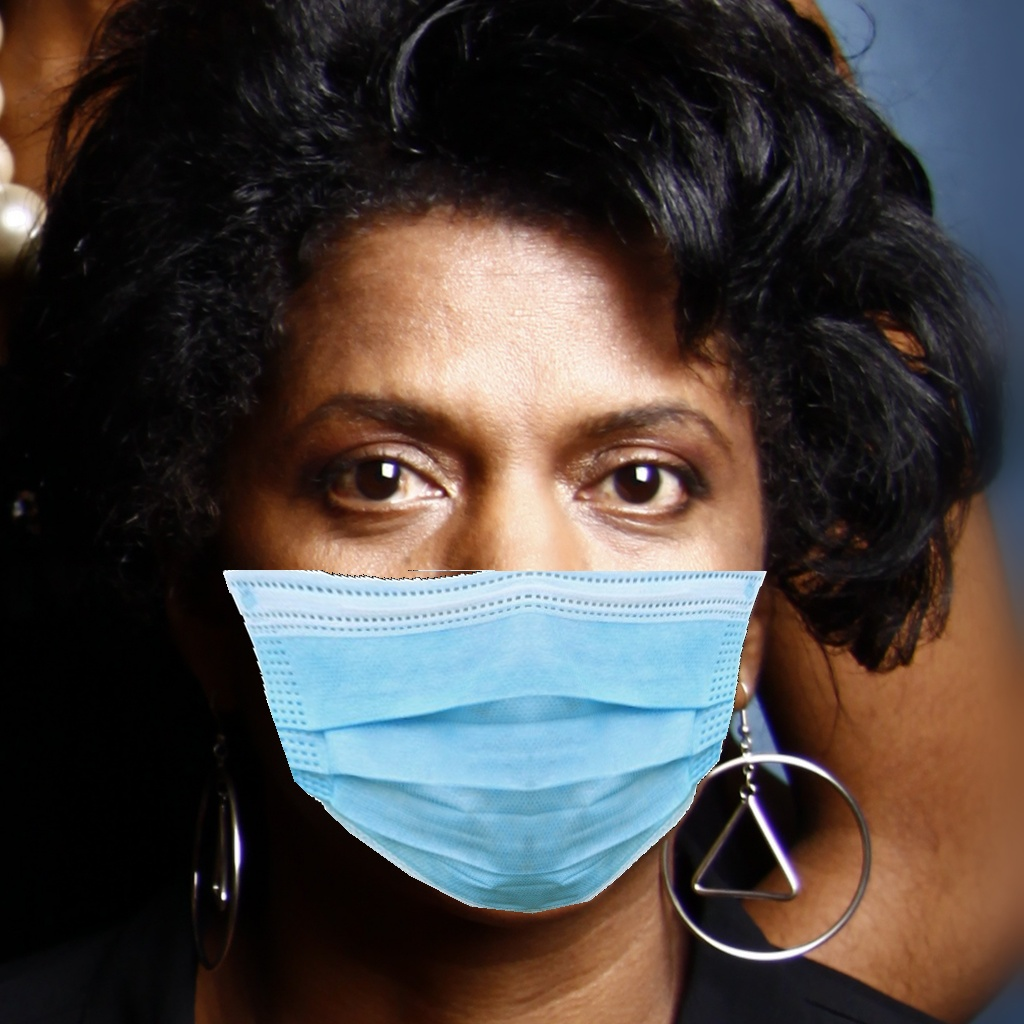Mask: (223, 335, 765, 920)
